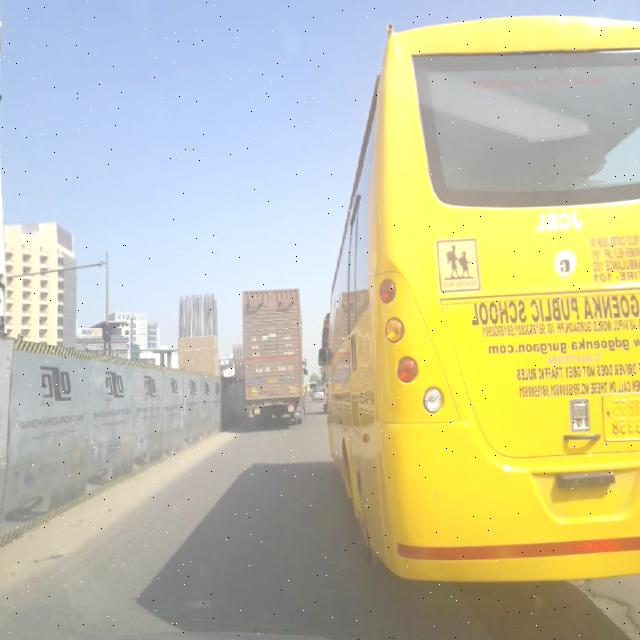D20: (42, 477, 226, 623)
